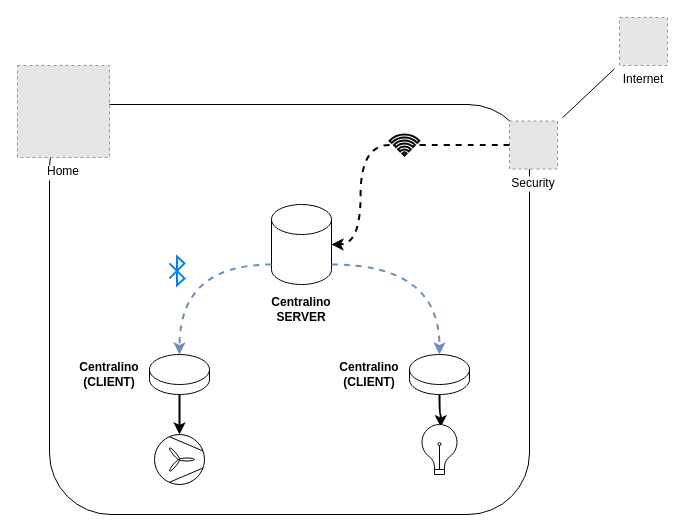
This 685x532 diagram has some shape labels left out. Grey dashed boxes stand in for pictures. The shapes that lost their labels are listed below. From the top down, each one's box as (x1, y1, x2, y2) in pixels, then its label:
(154, 434, 204, 484): Fan
(420, 424, 458, 474): Light
